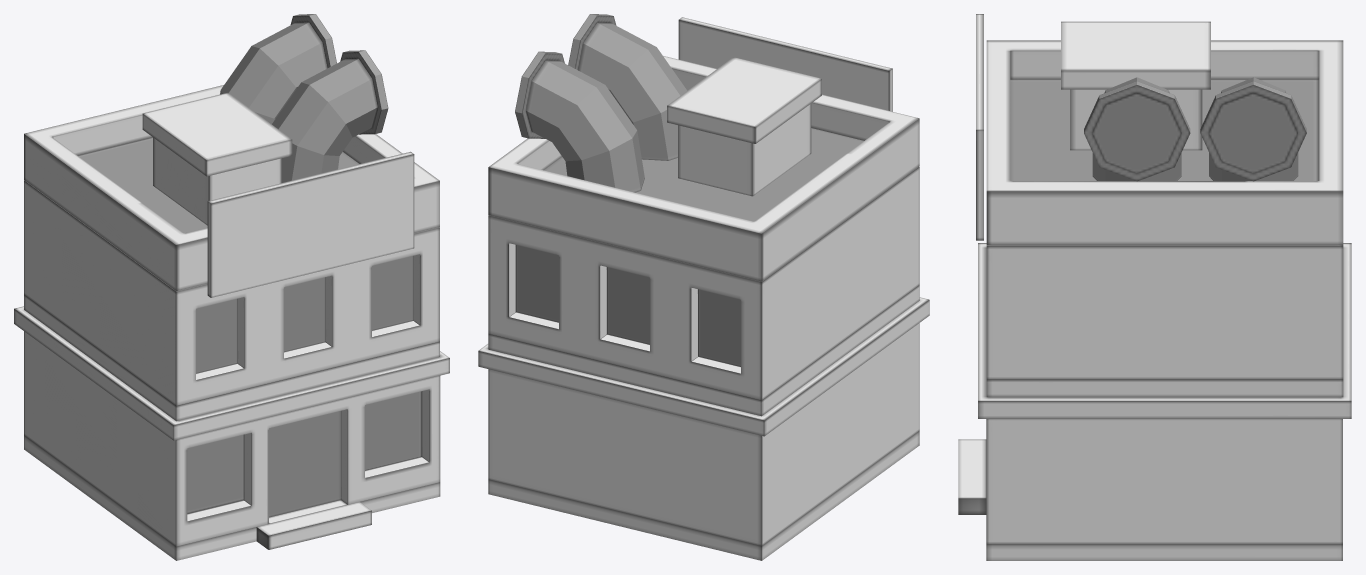
File: Building-06.fbx
3 renders of one model, left to right at view 1: azimuth 30°, elevation 25°; view 2: azimuth 150°, elevation 25°; view 3: azimuth 270°, elevation 25°, orthographic. The views are drawn at different scales.
Visible parts, largest first — view 1: Building_06; view 2: Building_06; view 3: Building_06.
Boxes of the visible parts, x1=… form: Building_06: x1=14, y1=14, x2=449, y2=560; Building_06: x1=478, y1=14, x2=929, y2=560; Building_06: x1=958, y1=14, x2=1351, y2=560.
Bounding box in the file's own units: 2.09 × 2.91 × 2.21.
